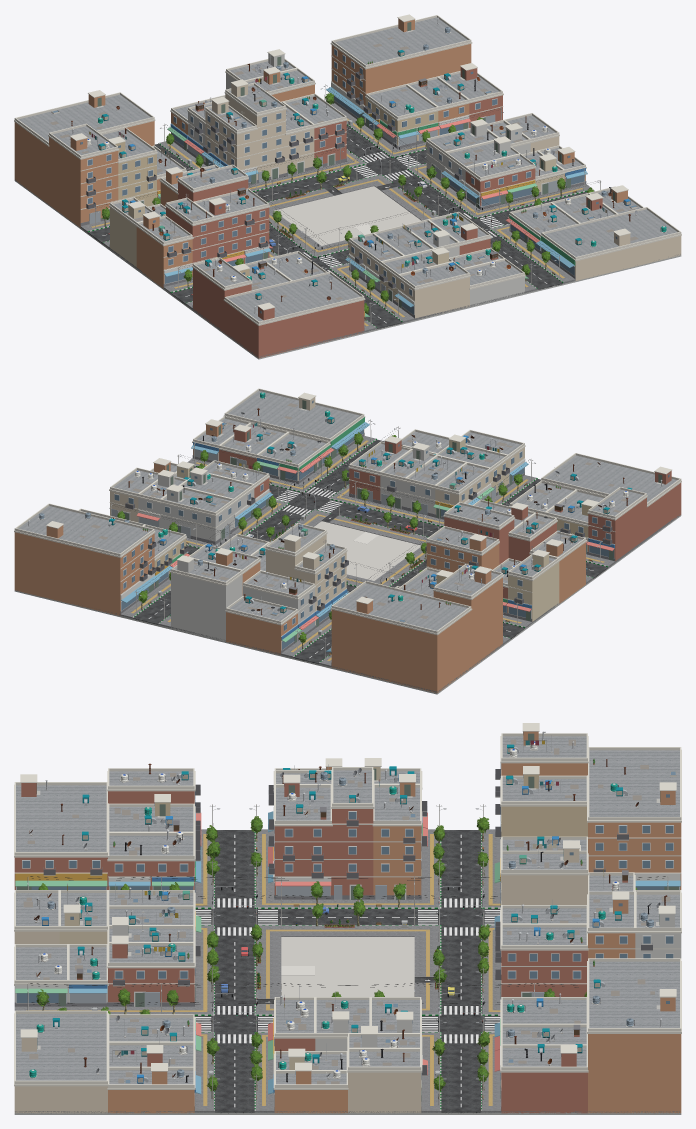
File: city_only.glb
3 views of the same model, one above another, from view 1: azimuth 30°, elevation 25°; view 2: azimuth 150°, elevation 25°; view 3: azimuth 270°, elevation 25° (orthographic). The views are drawn at different scales.
Visible parts, largest first — view 1: CityMerged_0_0_u, CityMerged_-1_-1_, CityMerged_0_0_, CityMerged_-1_0_, CityMerged_0_-1_, Sidewalk_Blocks, CafePlot.001, Roads_Extension, Asphalt, Sidewalk_Inner, Tactile_Strip, BuildingGround (+10 smaller); view 2: CityMerged_0_0_u, CityMerged_-1_0_, CityMerged_0_0_, CityMerged_-1_-1_, CityMerged_0_-1_, Sidewalk_Blocks, Roads_Extension, Asphalt, CafePlot.001, Sidewalk_Inner, BuildingGround, CityMerged_0_-1_cu (+8 smaller); view 3: CityMerged_0_0_u, CityMerged_0_0_, CityMerged_-1_0_, CityMerged_-1_-1_, CityMerged_0_-1_, Roads_Extension, Asphalt, Sidewalk_Blocks, CafePlot.001, Sidewalk_Inner, Tactile_Strip, Roads_Markings (+11 smaller).
Boxes of the visible parts, <box> form: CityMerged_0_0_u: <box>18,17,677,321</box>; CityMerged_-1_-1_: <box>50,37,638,358</box>; CityMerged_0_0_: <box>51,14,637,313</box>; CityMerged_-1_0_: <box>14,22,615,275</box>; CityMerged_0_-1_: <box>121,67,681,320</box>; Sidewalk_Blocks: <box>15,103,680,357</box>; CafePlot.001: <box>274,186,421,245</box>; Roads_Extension: <box>88,125,594,328</box>; Asphalt: <box>253,158,489,269</box>; Sidewalk_Inner: <box>268,175,437,256</box>; Tactile_Strip: <box>91,118,582,326</box>; BuildingGround: <box>14,180,681,359</box>; CityMerged_0_0_u: <box>18,391,677,630</box>; CityMerged_-1_0_: <box>142,400,663,692</box>; CityMerged_0_0_: <box>14,392,671,641</box>; CityMerged_-1_-1_: <box>79,403,681,618</box>; CityMerged_0_-1_: <box>150,388,671,595</box>; Sidewalk_Blocks: <box>17,436,679,692</box>; Roads_Extension: <box>133,439,607,664</box>; Asphalt: <box>246,493,442,592</box>; CafePlot.001: <box>314,521,421,580</box>; Sidewalk_Inner: <box>271,510,428,586</box>; BuildingGround: <box>14,515,681,694</box>; CityMerged_0_-1_cu: <box>197,432,396,533</box>; CityMerged_0_0_u: <box>16,736,679,1084</box>; CityMerged_0_0_: <box>20,723,681,1113</box>; CityMerged_-1_0_: <box>36,731,681,1062</box>; CityMerged_-1_-1_: <box>14,739,670,1084</box>; CityMerged_0_-1_: <box>14,781,627,1113</box>; Roads_Extension: <box>194,830,500,1113</box>; Asphalt: <box>214,909,481,1032</box>; Sidewalk_Blocks: <box>14,829,680,1113</box>; CafePlot.001: <box>281,937,414,996</box>; Sidewalk_Inner: <box>254,925,440,1014</box>; Tactile_Strip: <box>26,834,500,1105</box>; Roads_Markings: <box>195,834,500,1107</box>.
Bounding box in the file's own units: 100 × 19.03 × 100.
106 materials, 15 textured.
